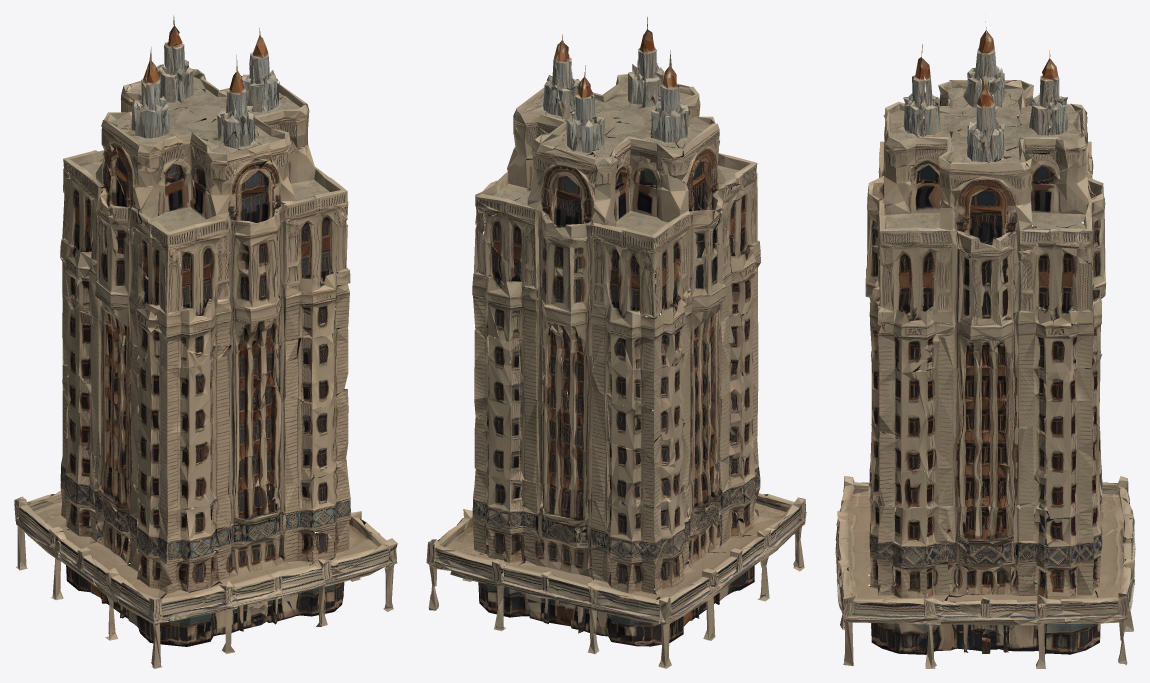
File: JHB_HeroBuilding06_LOD1.fbx
3 renders of one model, left to right at view 1: azimuth 30°, elevation 25°; view 2: azimuth 150°, elevation 25°; view 3: azimuth 270°, elevation 25°, orthographic. The views are drawn at different scales.
Visible parts, largest first — view 1: JHB_HeroBuilding06_LOD1; view 2: JHB_HeroBuilding06_LOD1; view 3: JHB_HeroBuilding06_LOD1.
Part boxes in pixels (x1,y1,x2,y2): JHB_HeroBuilding06_LOD1: (14, 15, 397, 668); JHB_HeroBuilding06_LOD1: (426, 17, 806, 668); JHB_HeroBuilding06_LOD1: (835, 21, 1135, 668).
Size of the model in its own units: 8.64 by 18.02 by 8.65.
